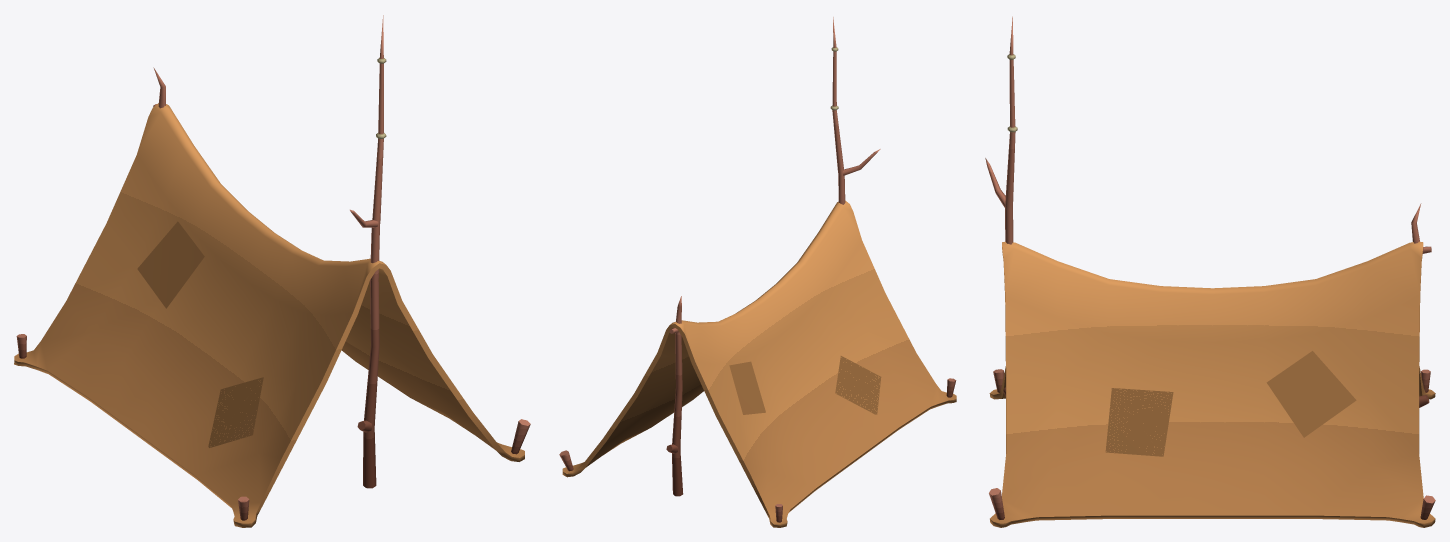
Rendered from SM_StrandedMan_Tent.dae.
3 views of the same model, side by side, from view 1: azimuth 30°, elevation 25°; view 2: azimuth 150°, elevation 25°; view 3: azimuth 270°, elevation 25° (orthographic). The views are drawn at different scales.
Visible parts, largest first — view 1: SM_StrandedMan_Tent; view 2: SM_StrandedMan_Tent; view 3: SM_StrandedMan_Tent.
Boxes of the visible parts, x1=… form: SM_StrandedMan_Tent: x1=14, y1=15, x2=530, y2=527; SM_StrandedMan_Tent: x1=559, y1=17, x2=956, y2=527; SM_StrandedMan_Tent: x1=985, y1=16, x2=1435, y2=527.
Size of the model in its own units: 172 by 240 by 265.
Materials: 1 (1 with a texture image).
